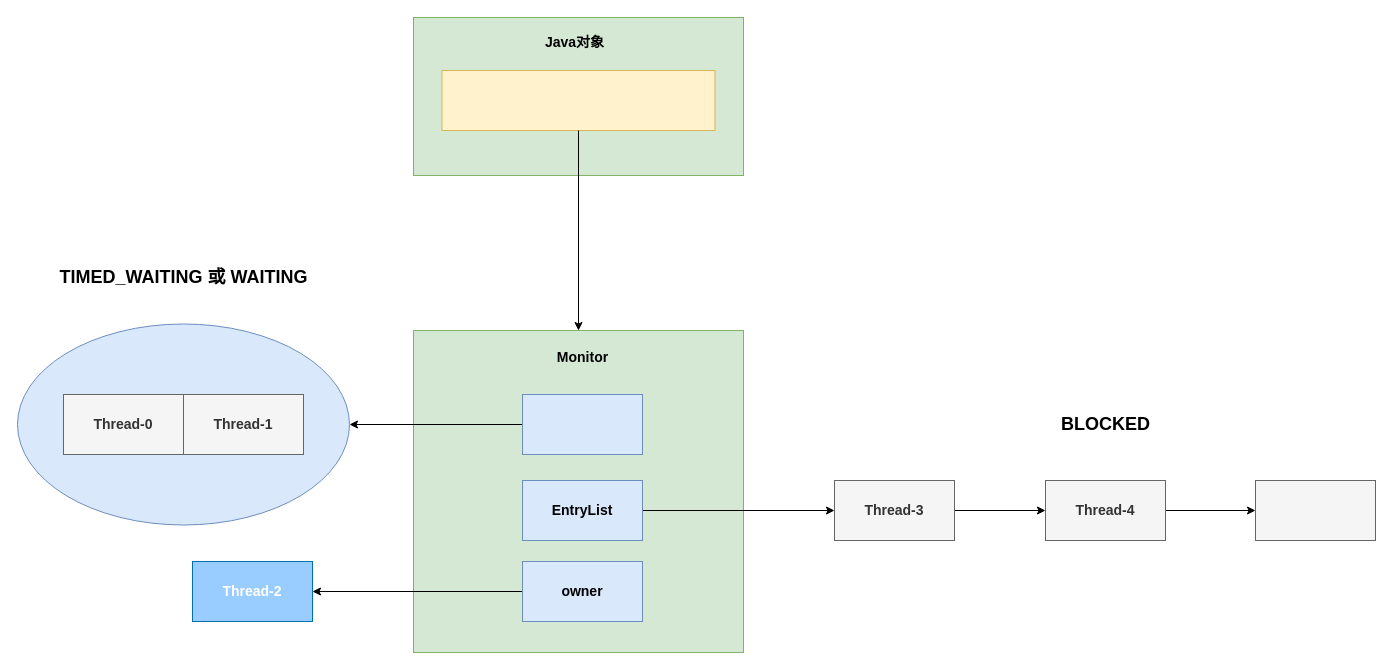
Image size: 1393x670. Some labels were removed from this diagram. The shapes that lost their labels are listed below. From the top down, each one's centre as x and y in pixels, then its label:
At (x=578, y=100): "Mark Word".
At (x=582, y=424): "WaitSet".
At (x=1315, y=510): "Thread-5".
